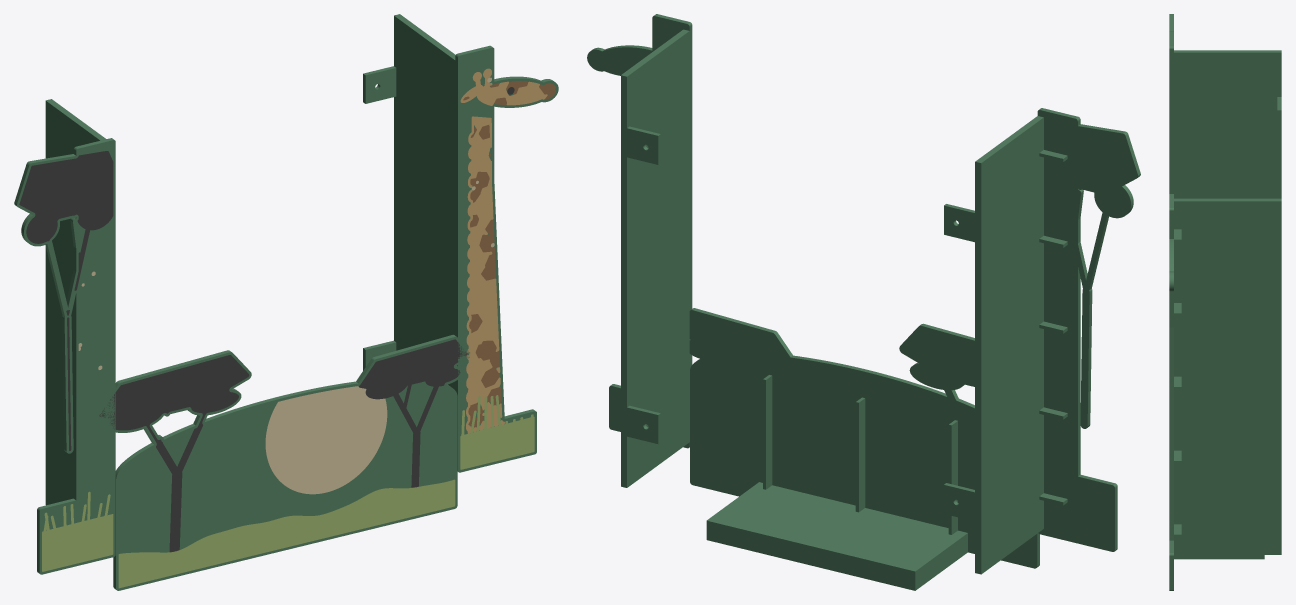
The model's file is parts.glb.
3 views of the same model, side by side, from view 1: azimuth 30°, elevation 25°; view 2: azimuth 150°, elevation 25°; view 3: azimuth 270°, elevation 25° (orthographic). The views are drawn at different scales.
Visible parts, largest first — view 1: topper__base, wing_right__base, wing_left__base, topper__night, topper__sand, topper__grass, wing_right__giraffe, wing_left__night, wing_left__grass, wing_right__grass, wing_right__spot; view 2: topper__base, wing_left__base, wing_right__base; view 3: wing_right__base, wing_left__base, topper__base.
Boxes of the visible parts, bbox=[...] form: topper__base: bbox=[98, 334, 469, 590]; wing_right__base: bbox=[363, 14, 558, 472]; wing_left__base: bbox=[14, 99, 115, 574]; topper__night: bbox=[99, 339, 468, 552]; topper__sand: bbox=[265, 386, 387, 494]; topper__grass: bbox=[118, 479, 455, 588]; wing_right__giraffe: bbox=[460, 68, 547, 433]; wing_left__night: bbox=[19, 151, 113, 450]; wing_left__grass: bbox=[42, 491, 113, 571]; wing_right__grass: bbox=[460, 395, 534, 469]; wing_right__spot: bbox=[463, 81, 555, 427]; topper__base: bbox=[689, 308, 1056, 590]; wing_left__base: bbox=[944, 108, 1140, 574]; wing_right__base: bbox=[587, 14, 692, 487]; wing_right__base: bbox=[1169, 194, 1281, 590]; wing_left__base: bbox=[1169, 14, 1281, 198]; topper__base: bbox=[1174, 555, 1264, 559].
Bounding box in the file's own units: 356 × 284 × 73.
